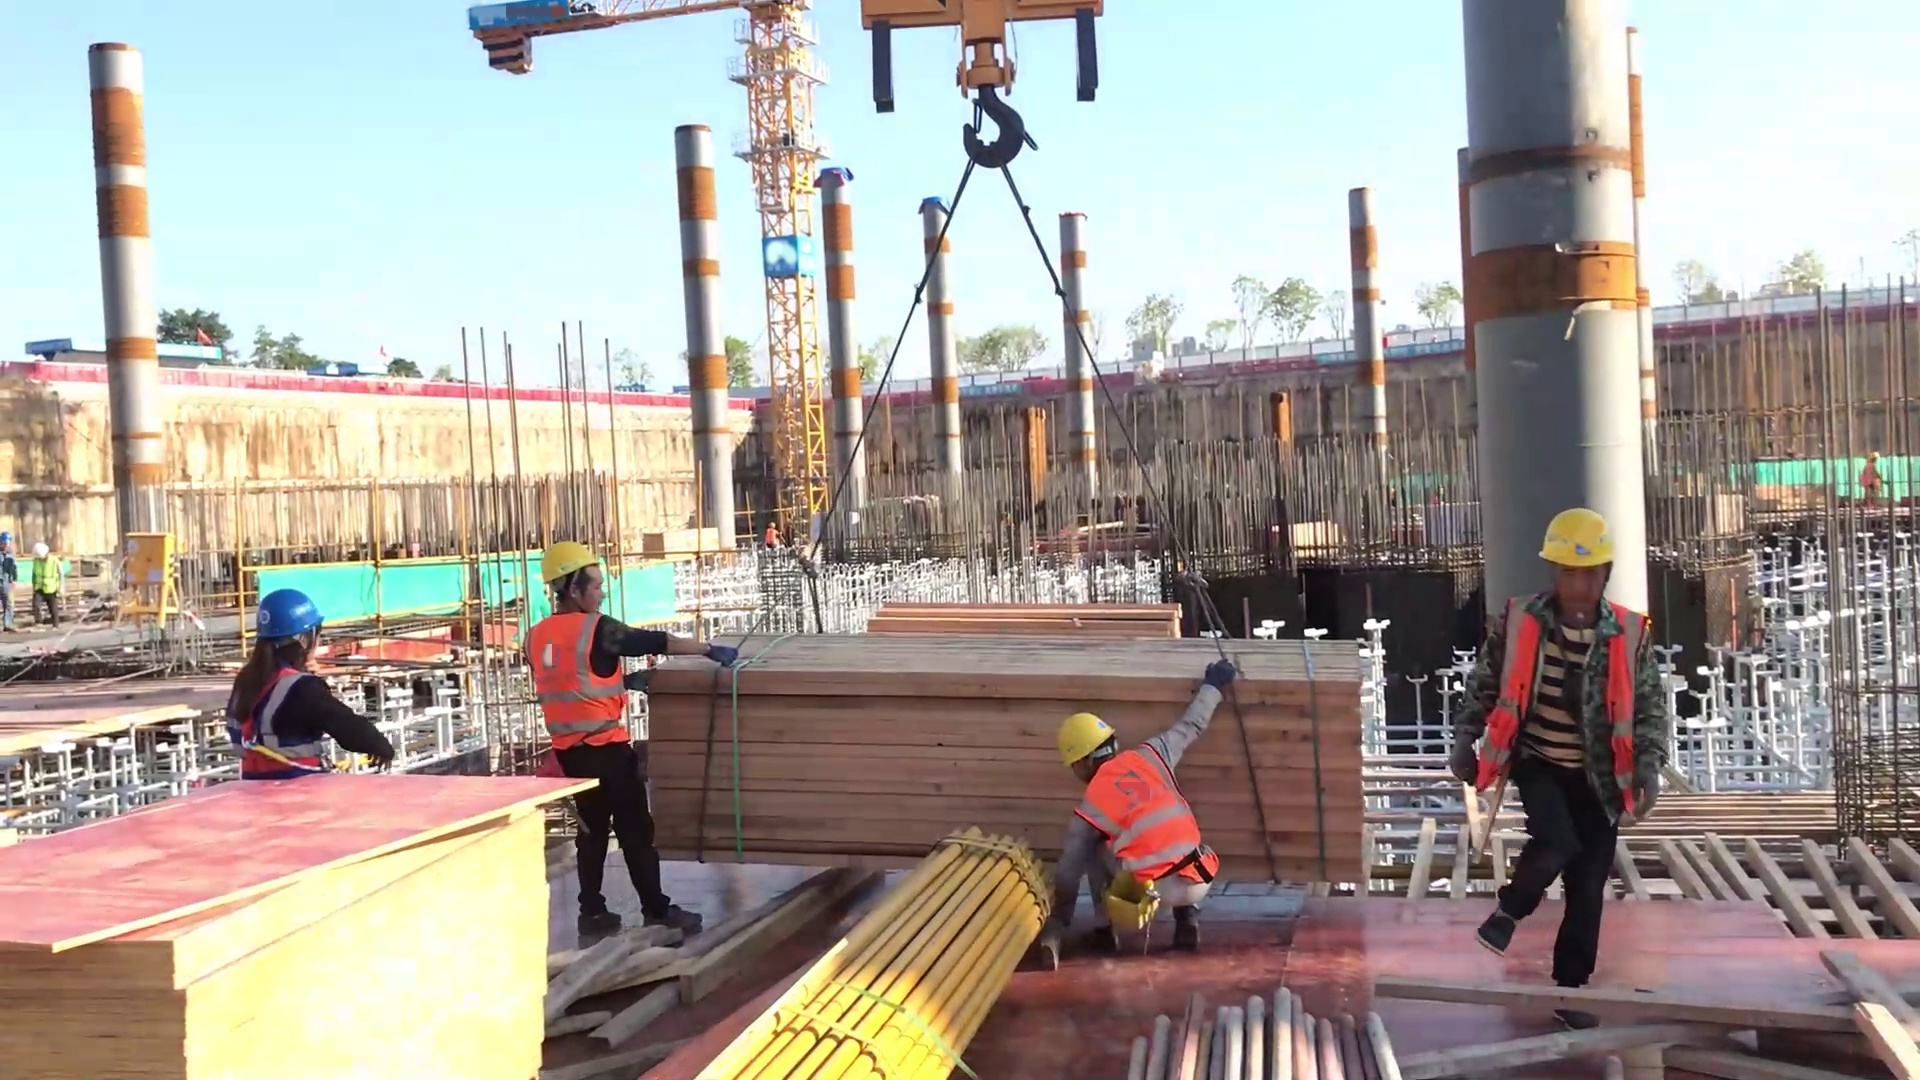board: (7, 757, 642, 1080)
ebox: (111, 516, 188, 627)
helmet: (224, 576, 348, 642), (1540, 507, 1617, 572), (1054, 697, 1115, 760), (543, 531, 616, 584), (27, 533, 48, 557)
hook: (850, 3, 1121, 187)
person: (1446, 493, 1696, 1012), (516, 537, 738, 946), (1013, 647, 1256, 935), (212, 579, 398, 811), (29, 541, 63, 622), (1, 533, 15, 620)
vest: (1469, 580, 1655, 818), (1069, 738, 1217, 891), (512, 606, 648, 747), (217, 670, 325, 789), (32, 551, 79, 593)
wood: (632, 626, 1370, 880)
